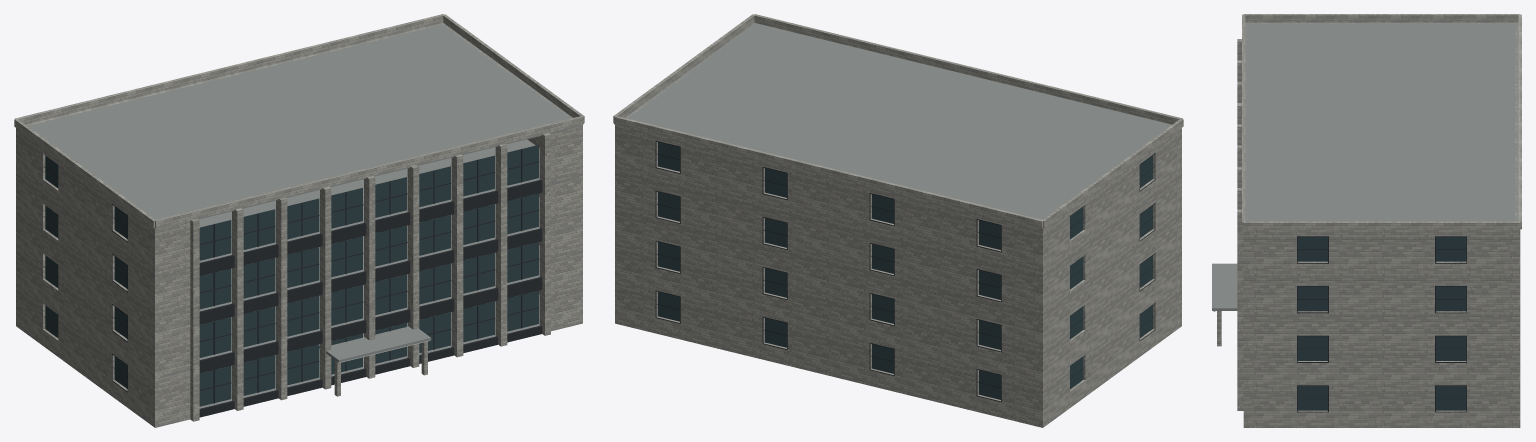
3 views of the same model, side by side, from view 1: azimuth 30°, elevation 25°; view 2: azimuth 150°, elevation 25°; view 3: azimuth 270°, elevation 25° (orthographic).
Visible parts, largest first — view 1: lawOld__stone, lawOld__roof, lawOld__glass, lawOld__frame; view 2: lawOld__stone, lawOld__roof, lawOld__glass, lawOld__frame; view 3: lawOld__stone, lawOld__roof, lawOld__glass, lawOld__frame.
Part boxes in pixels (x1,y1,x2,y2): lawOld__stone: (14,14,584,427); lawOld__roof: (28,23,582,426); lawOld__glass: (45,145,538,406); lawOld__frame: (43,149,542,417); lawOld__stone: (613,14,1183,427); lawOld__roof: (625,23,1171,219); lawOld__glass: (658,142,1152,399); lawOld__frame: (655,140,1155,402); lawOld__stone: (1217,14,1521,427); lawOld__roof: (1212,22,1518,310); lawOld__glass: (1297,237,1466,410); lawOld__frame: (1297,236,1466,412).
Bounding box in the file's own units: 40.63 × 18.65 × 25.46.
Materials: 5 (1 with a texture image).
